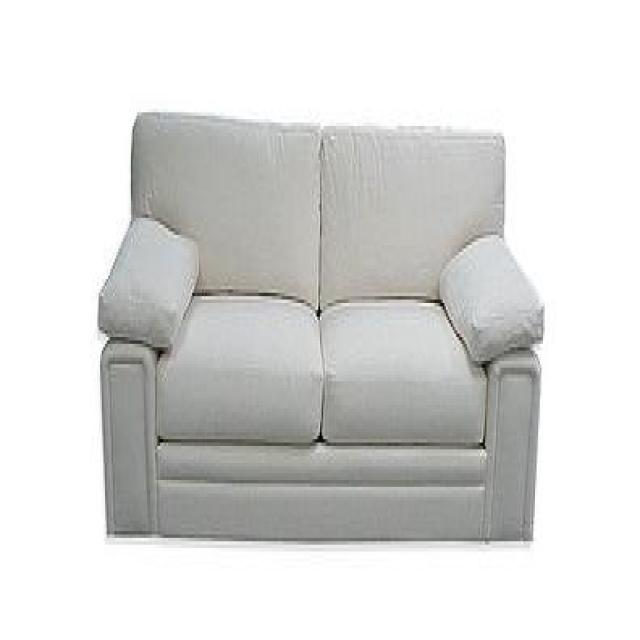sofa: (97, 106, 545, 544)
